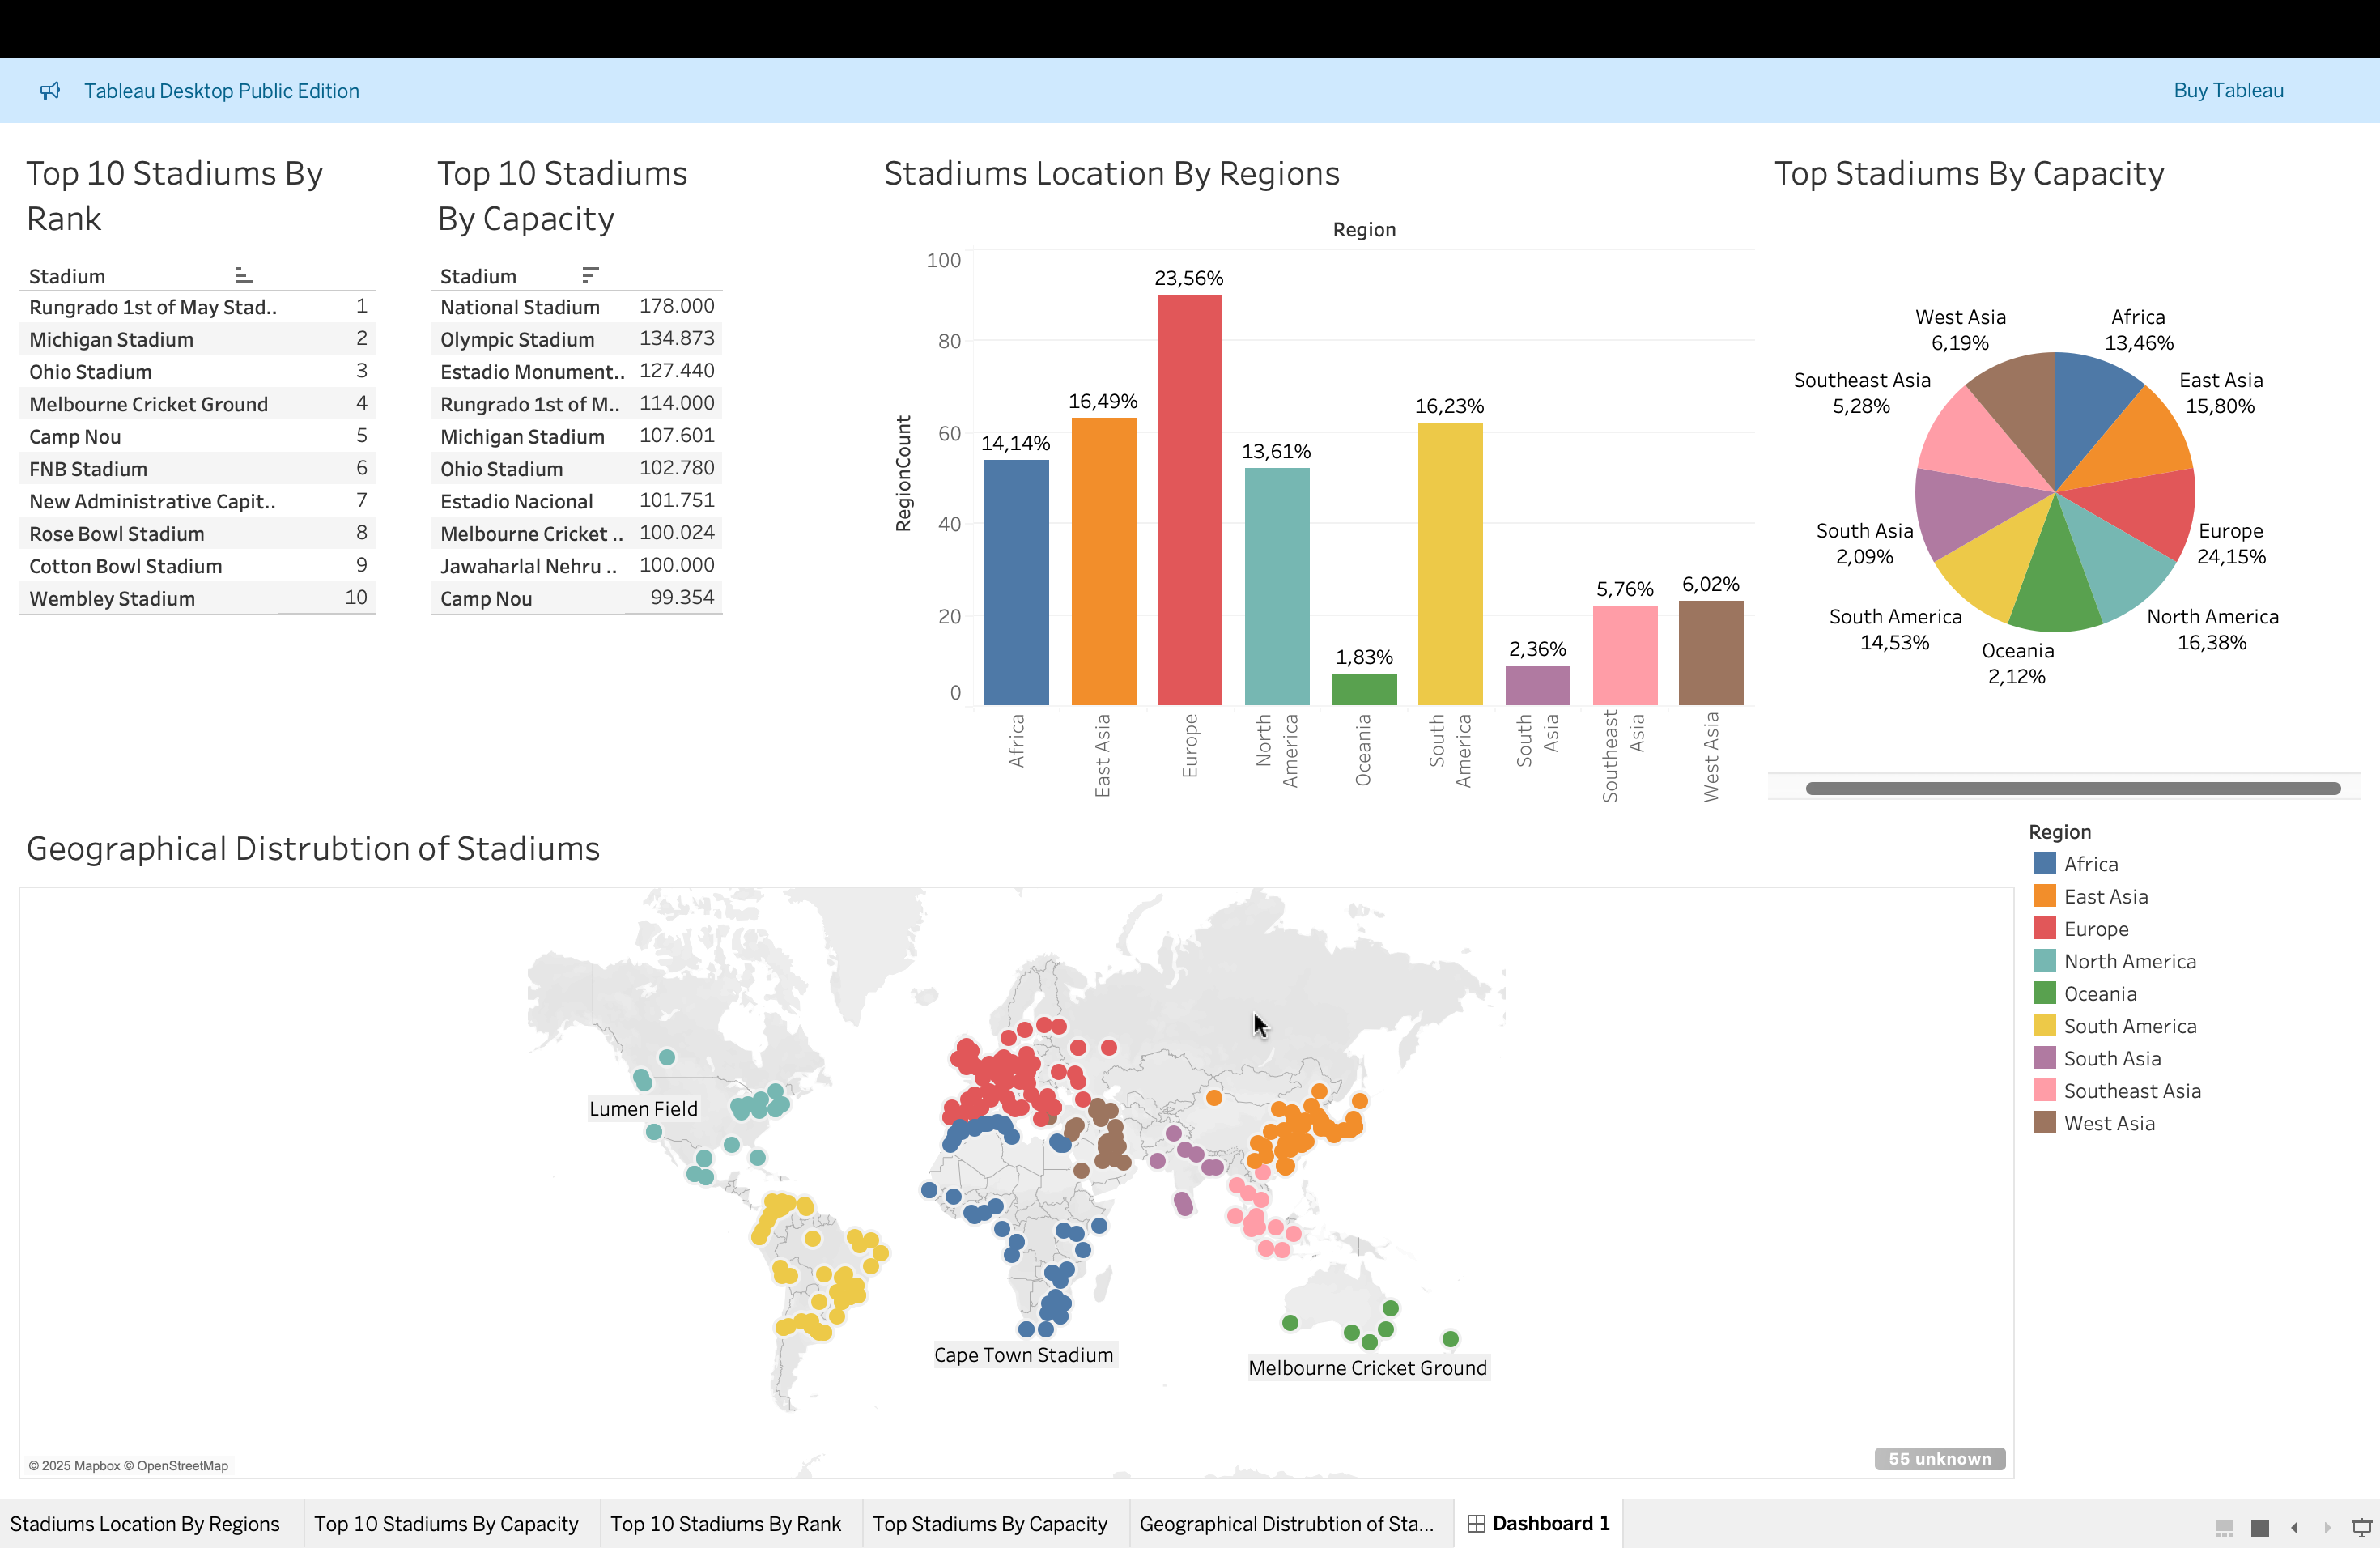

The page's visual inventory and layout, read from the dashboard file:
{"tool":"tableau","page":{"name":"Dashboard 1","canvas":[1000,1000],"units":"permille","ordinal":0},"visuals":[{"type":"worksheet","title":"Top 10 Stadiums By Rank","mark":"Automatic","rows":["stadium"],"box":[5.4,9.4,172.7,490.6]},{"type":"worksheet","title":"Top 10 Stadiums By Capacity","mark":"Automatic","rows":["stadium"],"box":[178.1,9.4,187.8,490.6]},{"type":"worksheet","title":"Stadiums Location By Regions","mark":"Automatic","rows":["Calculation_204139786060832768"],"cols":["region"],"box":[365.9,9.4,374,490.6]},{"type":"worksheet","title":"Top Stadiums By Capacity","mark":"Pie","box":[739.9,9.4,254.6,490.6]},{"type":"worksheet","title":"Geographical Distrubtion of Stadiums","mark":"Automatic","box":[5.4,500,844.3,490.6]},{"type":"legend","title":"Geographical Distrubtion of Stadiums","param":"[federated.0n6gyje1wada9h15mttav1ga2vgi].[none:region:nk]","box":[849.8,500,144.8,490.6]}]}

Visuals, with their boxes on the dashboard's canvas, which has no fixed pixel size, in thousandths of its width and height (x1, y1, x2, y2). These are canvas units, not pixel positions in the 2380x1548 screenshot, which may show the page scaled, cropped or inside an application window:
"Top 10 Stadiums By Rank" worksheet: (5, 9, 178, 500)
"Top 10 Stadiums By Capacity" worksheet: (178, 9, 366, 500)
"Stadiums Location By Regions" worksheet: (366, 9, 740, 500)
"Top Stadiums By Capacity" worksheet (Pie marks): (740, 9, 994, 500)
"Geographical Distrubtion of Stadiums" worksheet: (5, 500, 850, 991)
"Geographical Distrubtion of Stadiums" legend: (850, 500, 995, 991)
